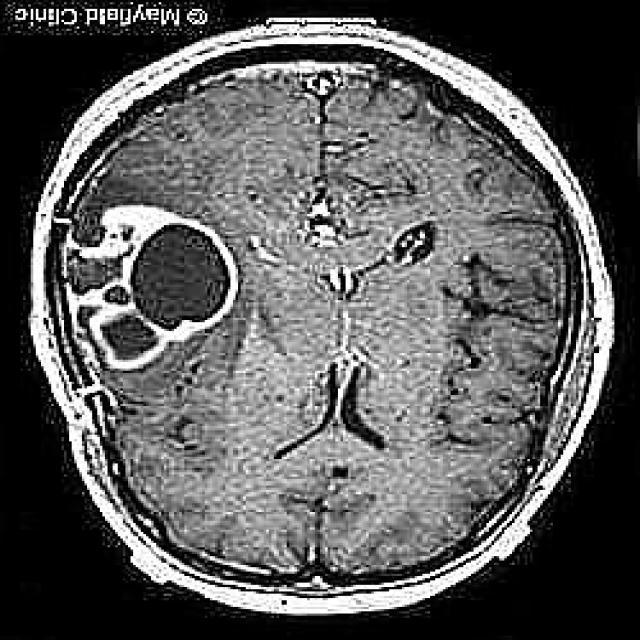Tumor-Cell: (54, 208, 233, 368)
